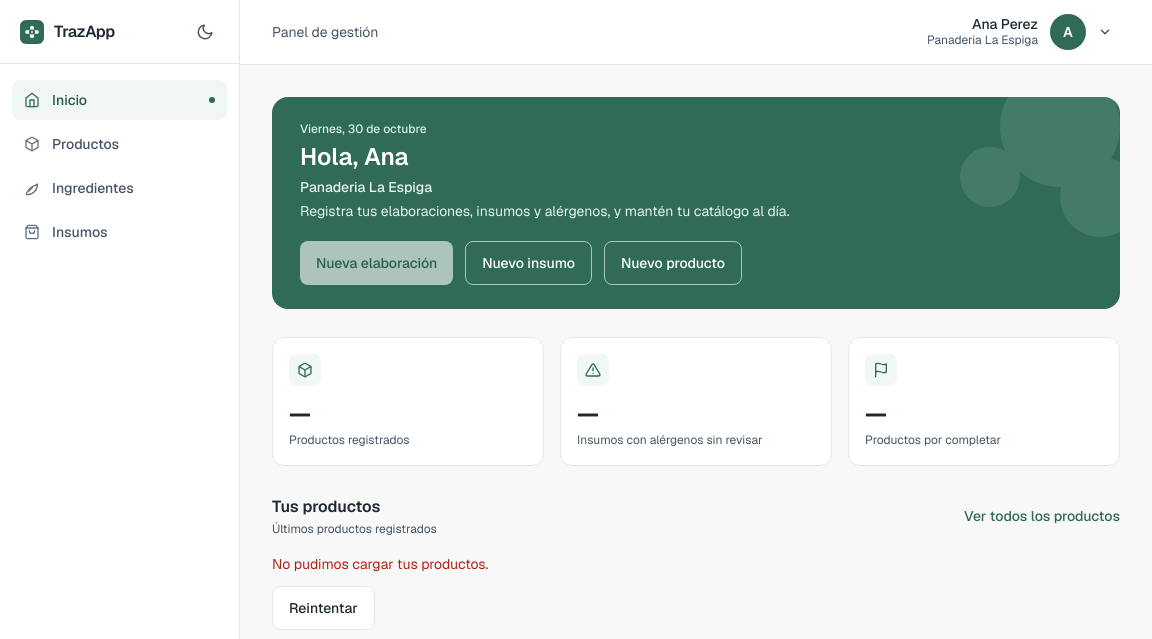
Test: Protección y logout HU12 › muestra error explícito si falla la carga de productos en el Dashboard
expect the text "No pudimos cargar tus productos." is shown: met, box [272, 554, 488, 572]
expect the text "Aún no tienes productos." is not shown: met
Click the button "Reintentar" at coordinates (323, 608), box [272, 586, 375, 630]
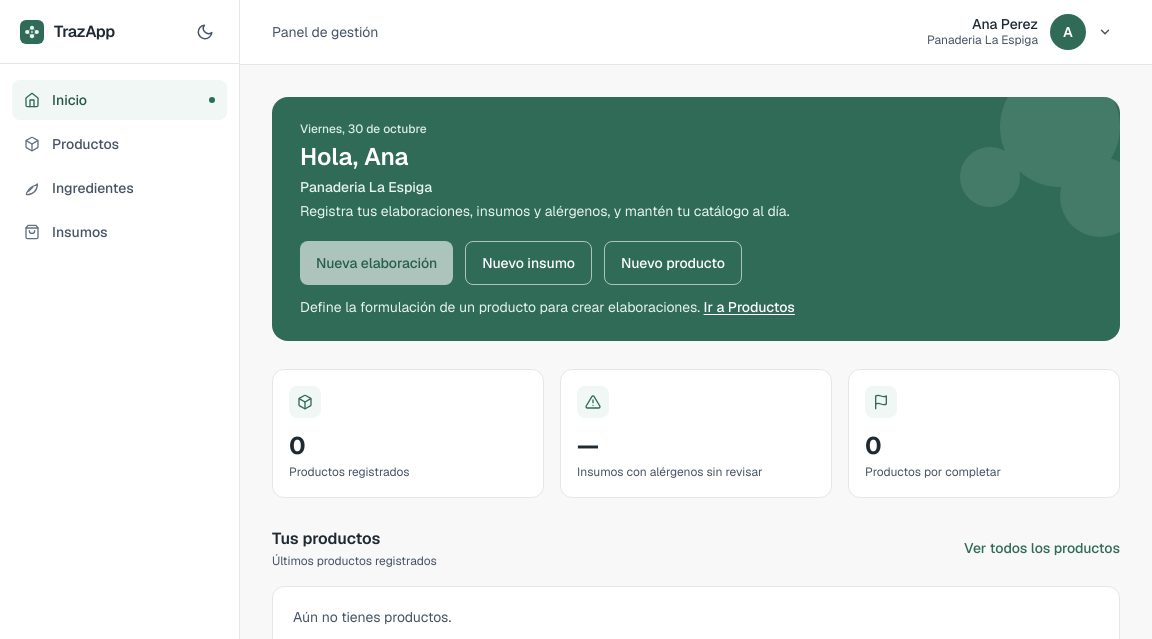
expect the text "Aún no tienes productos." is shown: met, box [293, 608, 451, 626]
